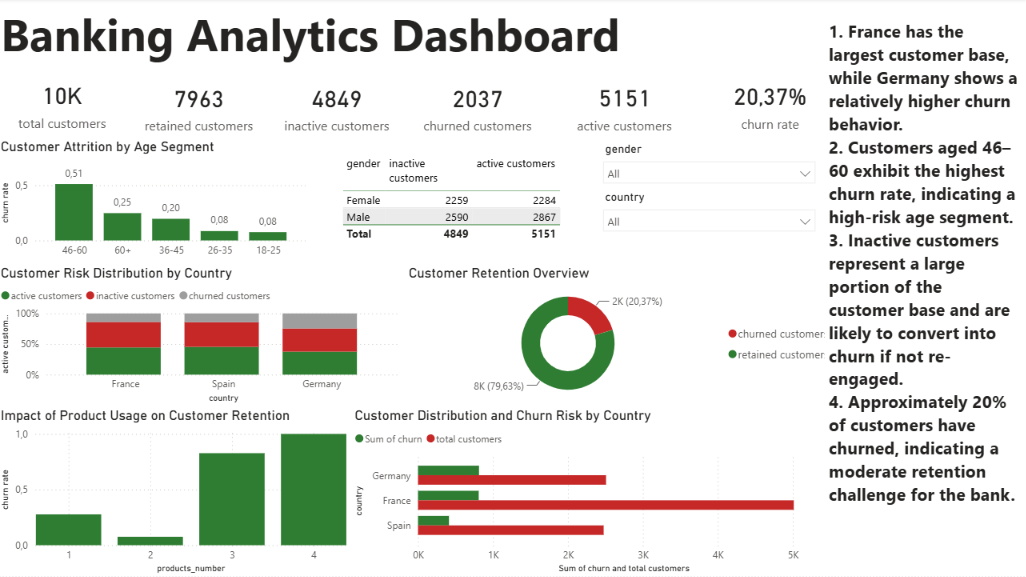

The dashboard page shown, as its layout file describes it:
{"tool":"powerbi","page":{"name":"Page 1","canvas":[1280,720],"ordinal":0},"visuals":[{"type":"card","fields":{"Values":["Bank Customer Churn Prediction.active customers"]},"box":[687.1,92.9,188.6,80],"z":0},{"type":"card","fields":{"Values":["Bank Customer Churn Prediction.churn rate"]},"box":[875.7,91.4,172.9,81.4],"z":1000},{"type":"card","fields":{"Values":["Bank Customer Churn Prediction.churned customers"]},"box":[507.1,92.9,181.4,81.4],"z":2000},{"type":"card","fields":{"Values":["Bank Customer Churn Prediction.inactive customers"]},"box":[340,92.9,167.1,81.4],"z":3000},{"type":"card","fields":{"Values":["Bank Customer Churn Prediction.retained customers"]},"box":[162.9,92.9,177.1,81.4],"z":4000},{"type":"card","fields":{"Values":["Bank Customer Churn Prediction.total customers"]},"box":[0,90,162.9,81.4],"z":5000},{"type":"clusteredBarChart","title":"Customer Distribution and Churn Risk by Country","fields":{"Category":["Bank Customer Churn Prediction.country"],"Y":["Sum(Bank Customer Churn Prediction.churn)","Bank Customer Churn Prediction.total customers"]},"box":[440,508.6,608.6,211.4],"z":6000},{"type":"tableEx","fields":{"Values":["Bank Customer Churn Prediction.gender","Bank Customer Churn Prediction.inactive customers","Bank Customer Churn Prediction.active customers"]},"box":[424.3,188.6,287.1,142.9],"z":7000},{"type":"clusteredColumnChart","title":"Customer Attrition by Age Segment","fields":{"Y":["Bank Customer Churn Prediction.churn rate"],"Category":["Bank Customer Churn Prediction.Age Group"]},"box":[0,174.3,391.4,157.1],"z":8000},{"type":"clusteredColumnChart","title":"Impact of Product Usage on Customer Retention","fields":{"Y":["Bank Customer Churn Prediction.churn rate"],"Category":["Bank Customer Churn Prediction.products_number"]},"box":[0,508.6,440,211.4],"z":9000},{"type":"hundredPercentStackedColumnChart","title":"Customer Risk Distribution by Country","fields":{"Y":["Bank Customer Churn Prediction.active customers","Bank Customer Churn Prediction.inactive customers","Bank Customer Churn Prediction.churned customers"],"Category":["Bank Customer Churn Prediction.country"]},"box":[0,331.4,507.1,177.1],"z":10000},{"type":"donutChart","title":"Customer Retention Overview","fields":{"Y":["Bank Customer Churn Prediction.churned customers","Bank Customer Churn Prediction.retained customers"]},"box":[507.1,331.4,541.4,177.1],"z":11000},{"type":"textbox","box":[1090,503,190,150],"z":12000},{"type":"textbox","box":[0,0,781.4,90],"z":13000},{"type":"slicer","fields":{"Values":["Bank Customer Churn Prediction.country"]},"box":[744.3,234.3,284.3,61.4],"z":14000},{"type":"slicer","fields":{"Values":["Bank Customer Churn Prediction.gender"]},"box":[744.3,174.3,284.3,60],"z":15000},{"type":"textbox","box":[1030,21.7,250,698.3],"z":15001}]}

Visuals, with their boxes in screenshot pixels (x1, y1, x2, y2), scaled from the page's 1280x720 canvas onto the 1026x577 screenshot:
card - Bank Customer Churn Prediction.active customers: x1=551 y1=74 x2=702 y2=139
card - Bank Customer Churn Prediction.churn rate: x1=702 y1=73 x2=841 y2=138
card - Bank Customer Churn Prediction.churned customers: x1=406 y1=74 x2=552 y2=140
card - Bank Customer Churn Prediction.inactive customers: x1=273 y1=74 x2=406 y2=140
card - Bank Customer Churn Prediction.retained customers: x1=131 y1=74 x2=273 y2=140
card - Bank Customer Churn Prediction.total customers: x1=0 y1=72 x2=131 y2=137
"Customer Distribution and Churn Risk by Country" clusteredBarChart: x1=353 y1=408 x2=841 y2=576
tableEx - Bank Customer Churn Prediction.gender x Bank Customer Churn Prediction.inactive customers: x1=340 y1=151 x2=570 y2=266
"Customer Attrition by Age Segment" clusteredColumnChart: x1=0 y1=140 x2=314 y2=266
"Impact of Product Usage on Customer Retention" clusteredColumnChart: x1=0 y1=408 x2=353 y2=576
"Customer Risk Distribution by Country" hundredPercentStackedColumnChart: x1=0 y1=266 x2=406 y2=408
"Customer Retention Overview" donutChart: x1=406 y1=266 x2=840 y2=408
textbox: x1=874 y1=403 x2=1025 y2=523
textbox: x1=0 y1=0 x2=626 y2=72
slicer - Bank Customer Churn Prediction.country: x1=597 y1=188 x2=824 y2=237
slicer - Bank Customer Churn Prediction.gender: x1=597 y1=140 x2=824 y2=188
textbox: x1=826 y1=17 x2=1025 y2=576
